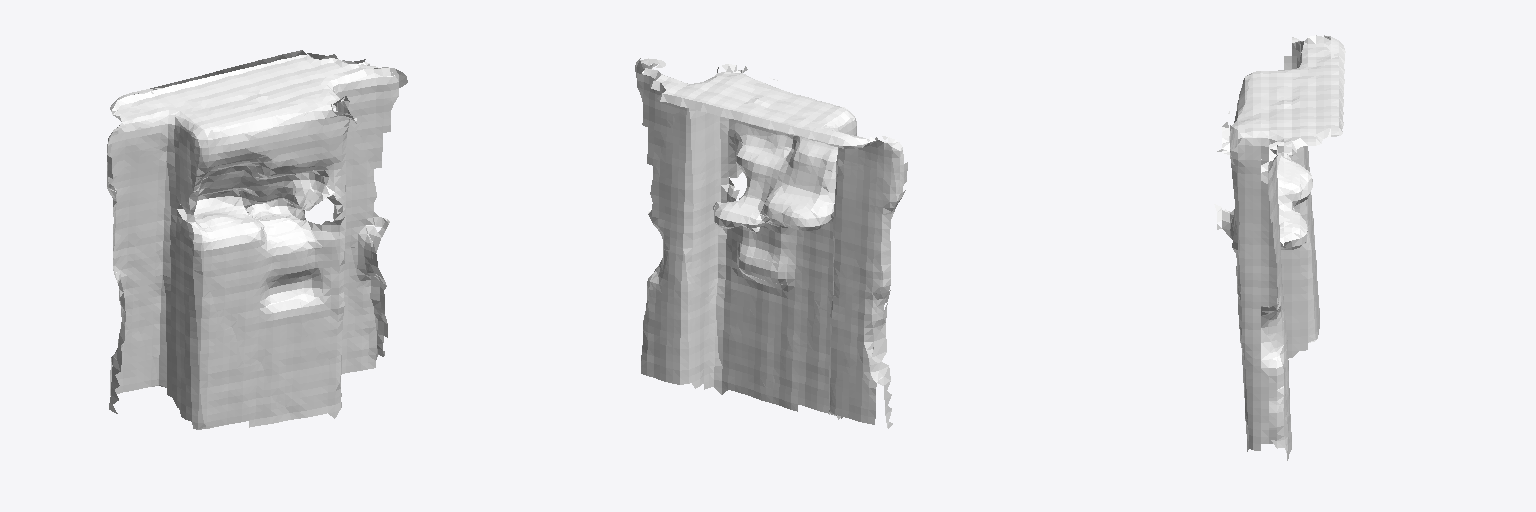
File: Hall4R.obj
The picture shows the model from 3 angles: view 1: azimuth 30°, elevation 25°; view 2: azimuth 150°, elevation 25°; view 3: azimuth 270°, elevation 25°; orthographic projection.
Size of the model in its own units: 2.39 by 2.66 by 0.9541.